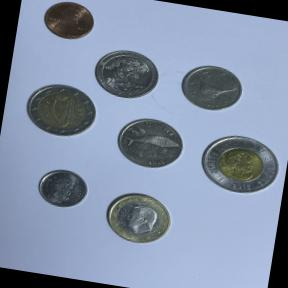1 Euro-B: (98, 185, 178, 253)
2 Euro-B: (16, 78, 102, 144)
Canada-10cent-B: (30, 161, 93, 217)
Canada-2Dollar-B: (192, 125, 286, 203)
Croatia-2Kune-B: (109, 111, 189, 176)
US-1cent-B: (38, 0, 99, 46)
US-25cent-B: (88, 43, 166, 104)
